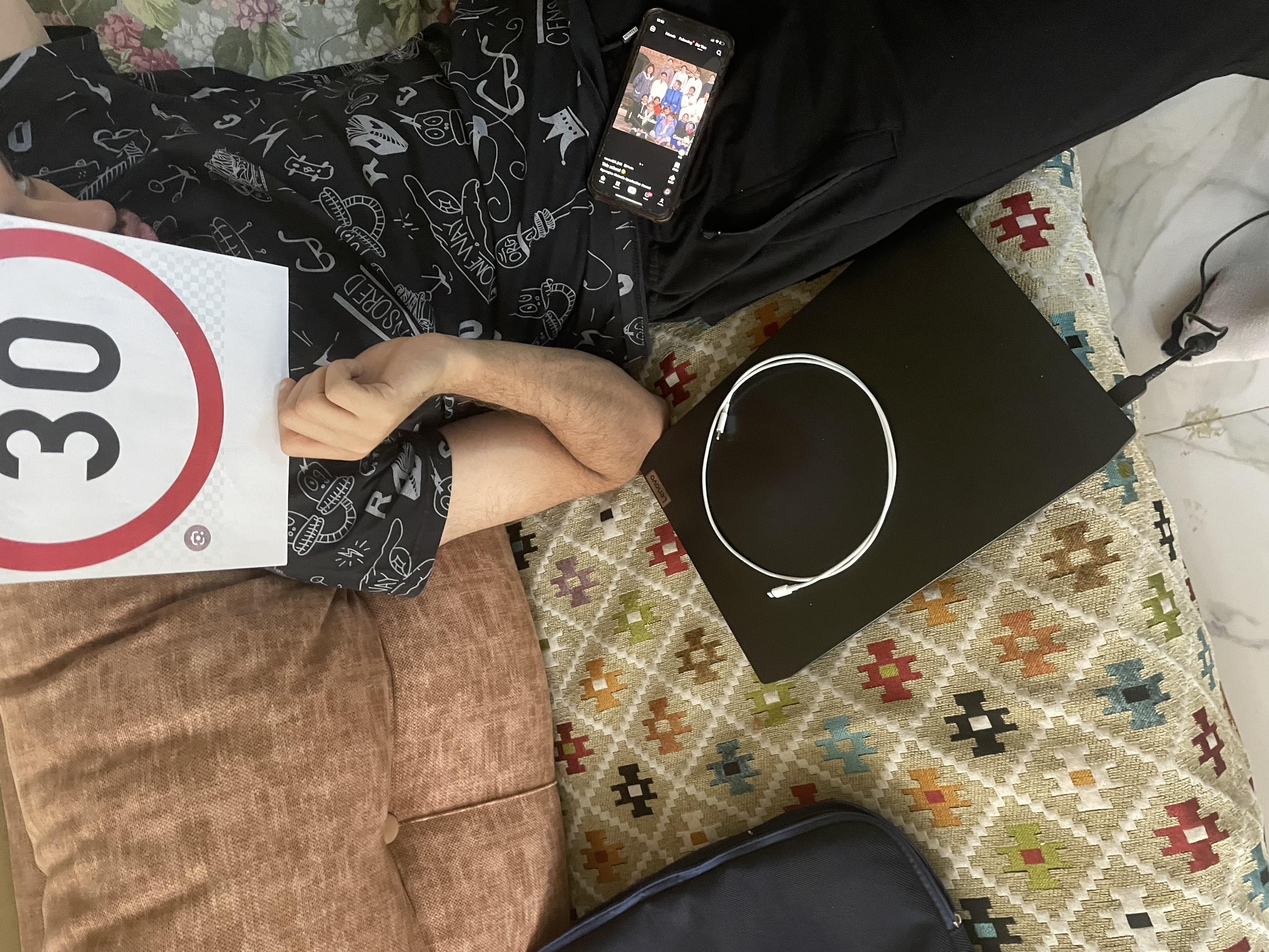30-speed: (509, 0, 987, 167)
